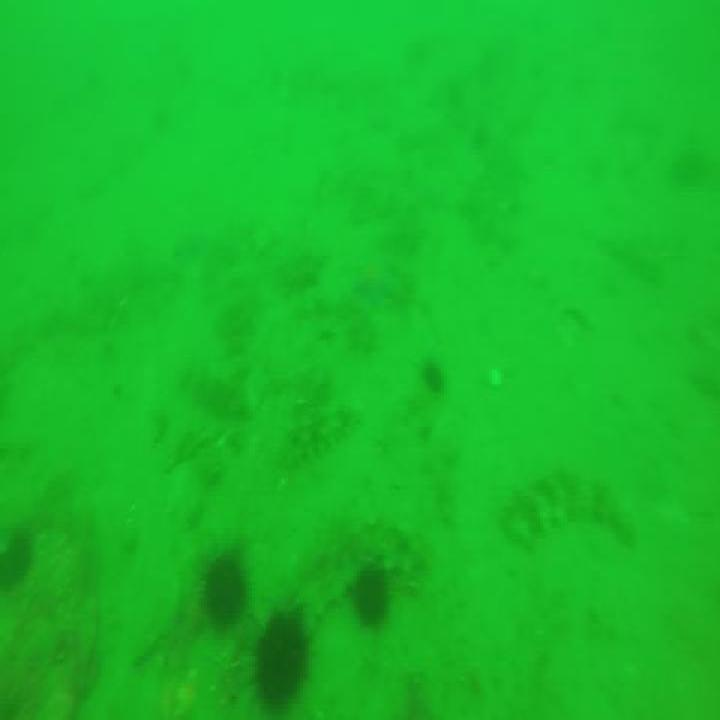echinus: (258, 601, 316, 700), (354, 560, 392, 631), (204, 564, 243, 627), (5, 521, 23, 594)
holothurian: (503, 462, 634, 553)
starfish: (352, 258, 401, 309)
